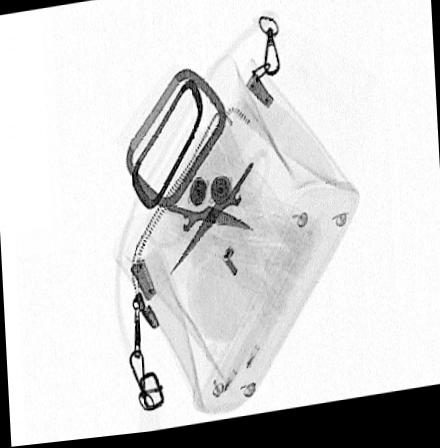Scissors: (145, 153, 268, 280)
